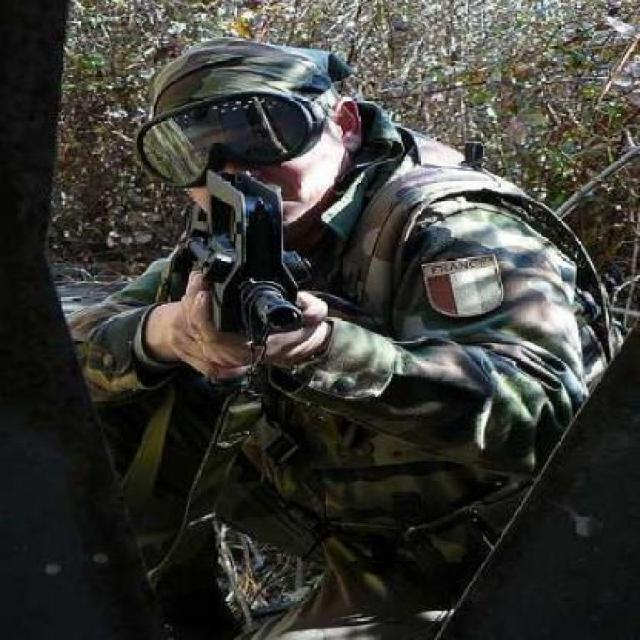weapon: (180, 163, 304, 347)
